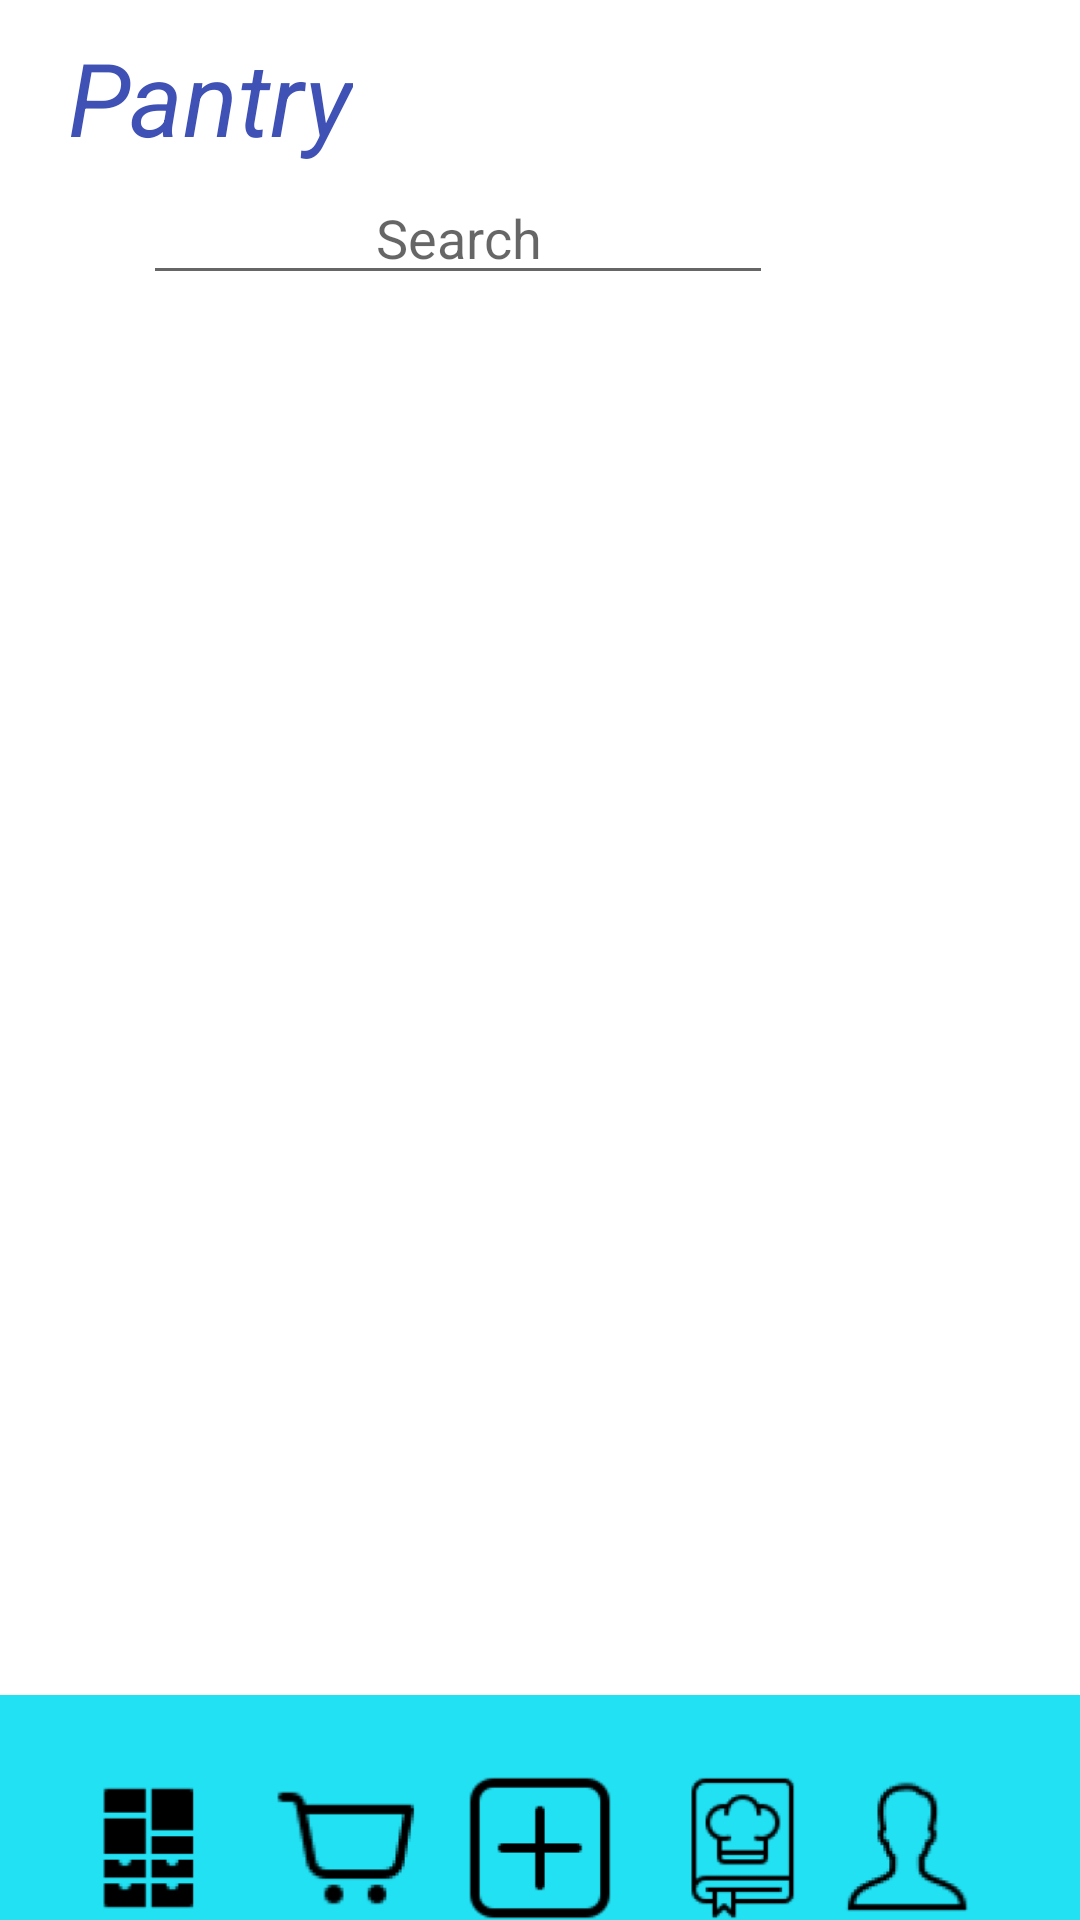

Locate icon controls on the screen. Image size 1080×1920, boxes as (x1=x1, y1=y1, x2=x2, y2=y2).
add: (x1=469, y1=1777, x2=611, y2=1919)
cart: (x1=277, y1=1791, x2=414, y2=1905)
cookbook: (x1=691, y1=1778, x2=794, y2=1918)
pantry: (x1=103, y1=1788, x2=194, y2=1908)
profile: (x1=847, y1=1782, x2=968, y2=1911)
